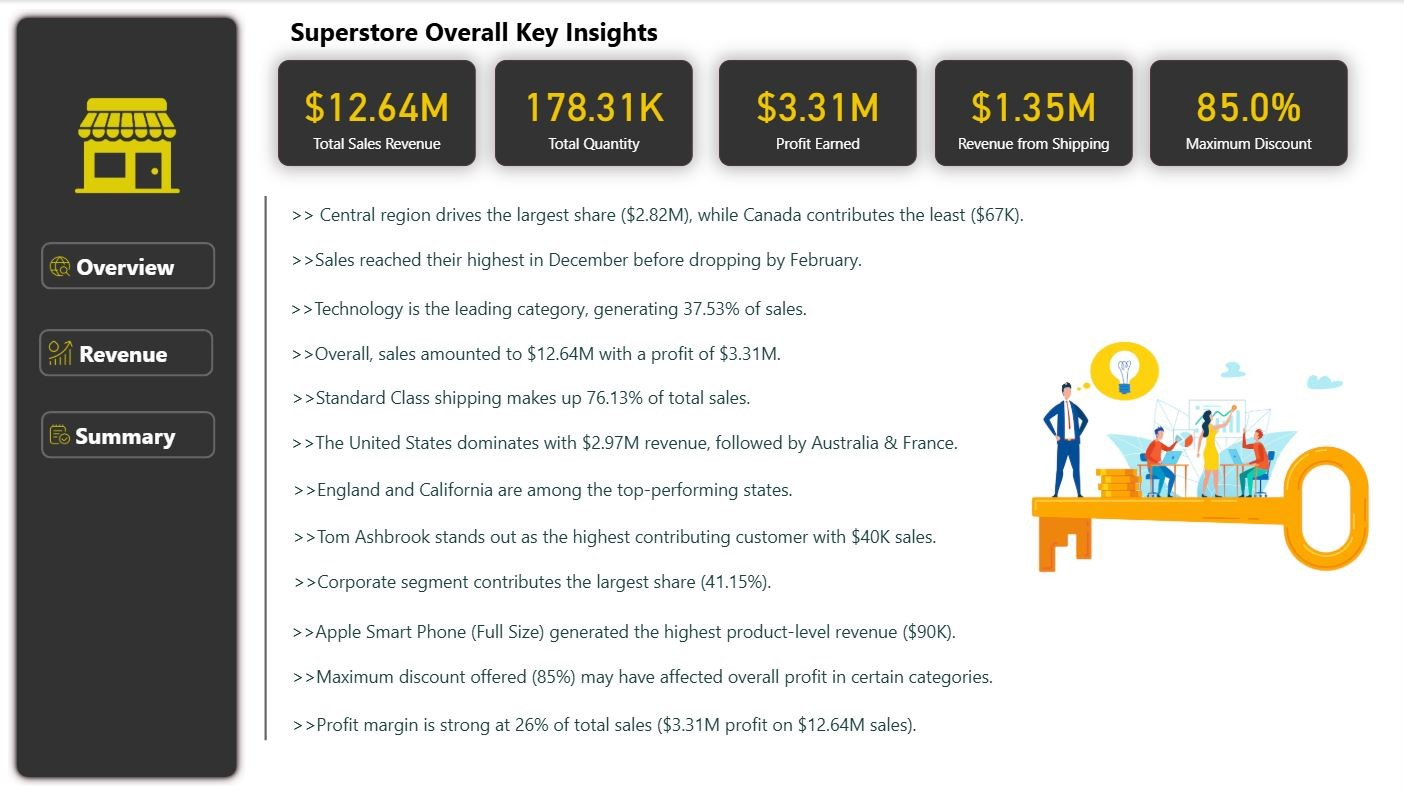

The page's visual inventory and layout, read from the dashboard file:
{"tool":"powerbi","page":{"name":"Overall Key Insights","canvas":[1280,720],"ordinal":2},"visuals":[{"type":"actionButton","box":[245.1,7.8,382.2,38.9],"z":0},{"type":"card","fields":{"Values":["Sum(Superstore_Sales.sales)"]},"box":[258.7,54.5,179,96.3],"z":1000},{"type":"shape","box":[14.6,7.8,215,703.2],"z":2000},{"type":"card","fields":{"Values":["Sum(Superstore_Sales.quantity)"]},"box":[455.2,54.5,179,96.3],"z":3000},{"type":"card","fields":{"Values":["Sum(Superstore_Sales.profit)"]},"box":[658.5,54.5,179,96.3],"z":4000},{"type":"card","fields":{"Values":["Sum(Superstore_Sales.shipping_cost)"]},"box":[854,54.5,179,96.3],"z":5000},{"type":"card","fields":{"Values":["Max(Superstore_Sales.discount)"]},"box":[1048.5,54.5,179,96.3],"z":6000},{"type":"actionButton","box":[260.7,178,682.8,30.2],"z":7000},{"type":"actionButton","box":[263.6,218.8,531.1,30.2],"z":8000},{"type":"actionButton","box":[265.6,263.6,476.6,30.2],"z":9000},{"type":"actionButton","box":[261.7,304.4,461,30.2],"z":10000},{"type":"actionButton","box":[264.6,344.3,428.9,30.2],"z":11000},{"type":"actionButton","box":[260.7,385.2,623.5,30.2],"z":12000},{"type":"actionButton","box":[228.6,427,538.8,30.2],"z":13000},{"type":"actionButton","box":[251.9,469.8,623.5,30.2],"z":14000},{"type":"actionButton","box":[225.7,510.6,527.2,30.2],"z":15000},{"type":"actionButton","box":[259.7,555.4,623.5,30.2],"z":16000},{"type":"actionButton","box":[264.6,596.2,648.8,30.2],"z":17000},{"type":"actionButton","box":[256.8,640,594.3,30.2],"z":18000},{"type":"shape","box":[233.2,177.7,28.3,492.6],"z":19000},{"type":"image","box":[57.4,76.8,130.3,108.9],"z":20000},{"type":"shape","box":[44,371.7,157.9,43],"z":21000},{"type":"shape","box":[43,297.8,157.9,43],"z":22000},{"type":"shape","box":[44,218.8,157.9,43],"z":23000},{"type":"image","box":[45,225.8,33,33],"z":24000},{"type":"image","box":[43,302.8,38,35],"z":25000},{"type":"image","box":[44,375.7,32,35],"z":26000},{"type":"image","box":[913.6,280.6,354.3,274.6],"z":27000}]}

Visuals, with their boxes in screenshot pixels (x1, y1, x2, y2), scaled from the page's 1280x720 canvas onto the 1404x791 screenshot:
actionButton: <box>269,9,688,51</box>
card - Sum(Superstore_Sales.sales): <box>284,60,480,166</box>
shape: <box>16,9,252,781</box>
card - Sum(Superstore_Sales.quantity): <box>499,60,696,166</box>
card - Sum(Superstore_Sales.profit): <box>722,60,919,166</box>
card - Sum(Superstore_Sales.shipping_cost): <box>937,60,1133,166</box>
card - Max(Superstore_Sales.discount): <box>1150,60,1346,166</box>
actionButton: <box>286,196,1035,229</box>
actionButton: <box>289,240,872,274</box>
actionButton: <box>291,290,814,323</box>
actionButton: <box>287,334,793,368</box>
actionButton: <box>290,378,761,411</box>
actionButton: <box>286,423,970,456</box>
actionButton: <box>251,469,842,502</box>
actionButton: <box>276,516,960,549</box>
actionButton: <box>248,561,826,594</box>
actionButton: <box>285,610,969,643</box>
actionButton: <box>290,655,1002,688</box>
actionButton: <box>282,703,934,736</box>
shape: <box>256,195,287,736</box>
image: <box>63,84,206,204</box>
shape: <box>48,408,221,456</box>
shape: <box>47,327,220,374</box>
shape: <box>48,240,221,288</box>
image: <box>49,248,86,284</box>
image: <box>47,333,89,371</box>
image: <box>48,413,83,451</box>
image: <box>1002,308,1391,610</box>
